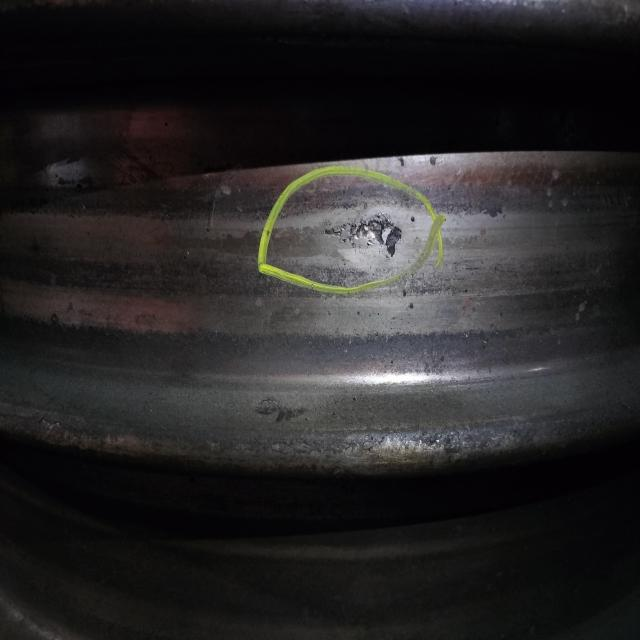Peeling: (322, 204, 407, 268)
